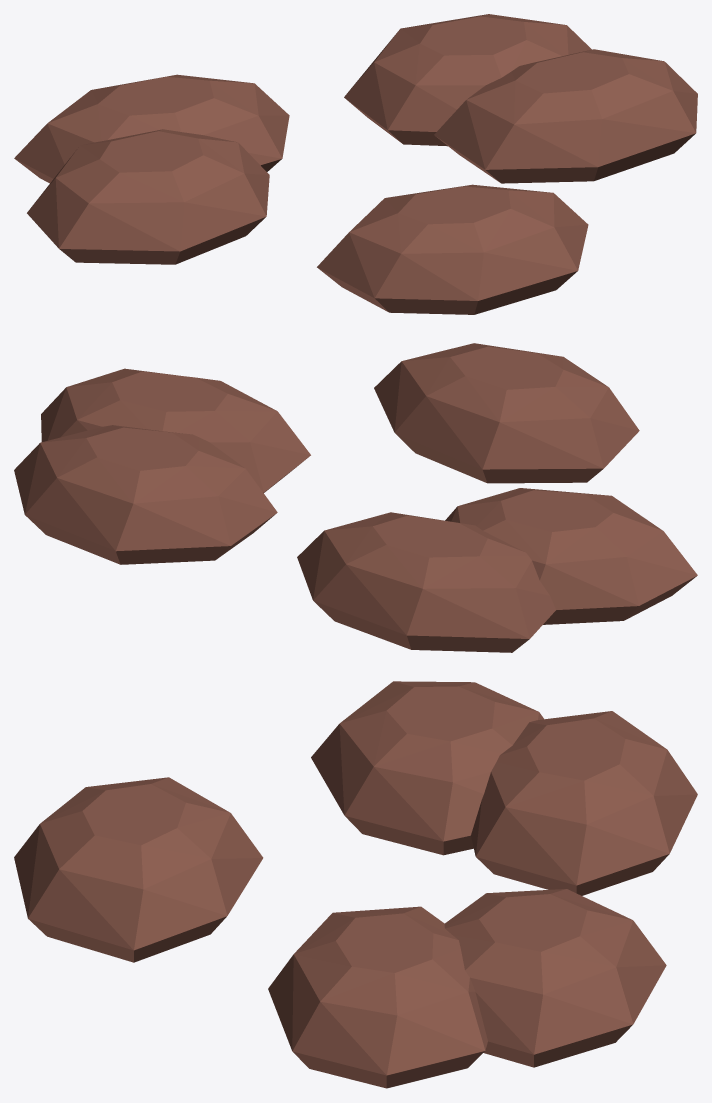
The model's file is pottery-shards.glb.
The picture shows the model from 3 angles, top to bottom: view 1: azimuth 30°, elevation 25°; view 2: azimuth 150°, elevation 25°; view 3: azimuth 270°, elevation 25°; orthographic projection. The views are drawn at different scales.
Parts seen in each view (by area): view 1: pottery-shards__body; view 2: pottery-shards__body; view 3: pottery-shards__body.
Part boxes in pixels (x1,y1,x2,y2): pottery-shards__body: (14,14,697,314); pottery-shards__body: (14,343,697,652); pottery-shards__body: (14,681,697,1088).
Size of the model in its own units: 0.4118 by 0.045 by 0.3225.
